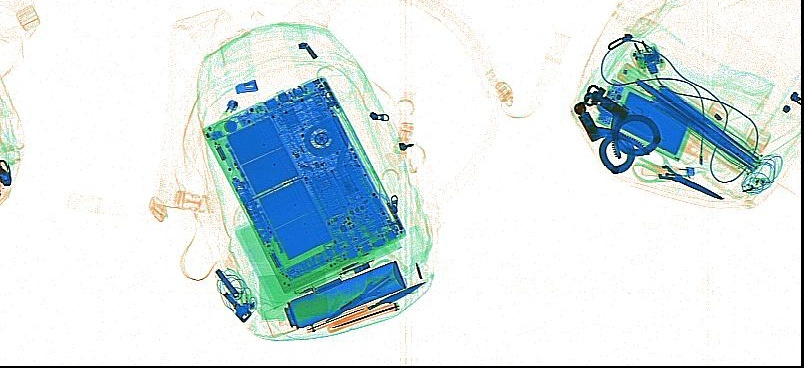handcuffs: (574, 84, 660, 173)
knife: (326, 279, 425, 326), (327, 301, 400, 331), (306, 304, 366, 332)
lighter: (640, 161, 694, 178)
pressure: (263, 260, 405, 336)
scissors: (326, 257, 405, 321), (631, 146, 723, 199)
